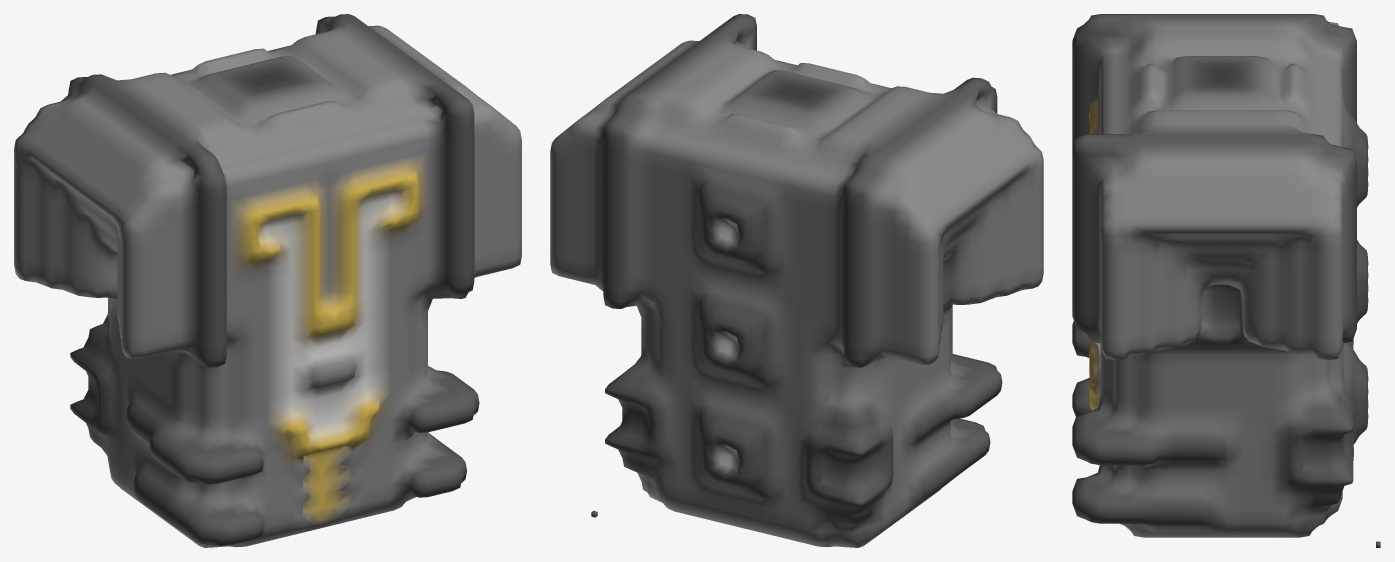
3 renders of one model, left to right at view 1: azimuth 30°, elevation 25°; view 2: azimuth 150°, elevation 25°; view 3: azimuth 270°, elevation 25°, orthographic. The views are drawn at different scales.
Bounding box in the file's own units: 1.6 × 1.6 × 1.08.
